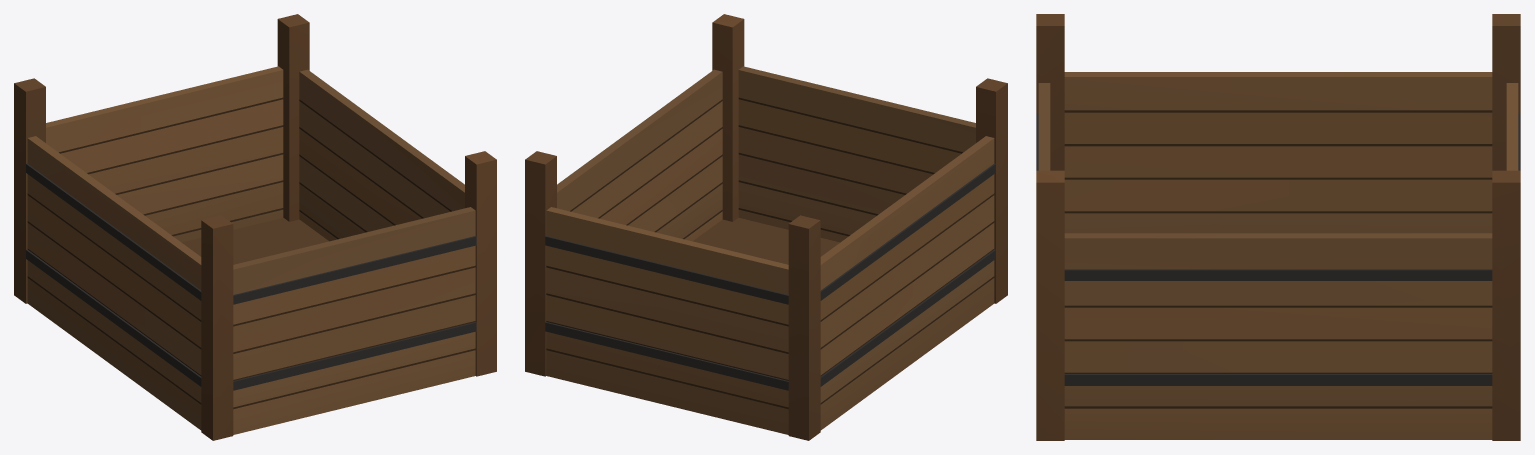
File: crate.bin.oak.glb
3 views of the same model, side by side, from view 1: azimuth 30°, elevation 25°; view 2: azimuth 150°, elevation 25°; view 3: azimuth 270°, elevation 25° (orthographic). The views are drawn at different scales.
Visible parts, largest first — view 1: crate_bin_oak; view 2: crate_bin_oak; view 3: crate_bin_oak.
Boxes of the visible parts, <box> form: crate_bin_oak: <box>14,14,496,440</box>; crate_bin_oak: <box>525,14,1007,440</box>; crate_bin_oak: <box>1036,14,1520,440</box>.
Size of what is drawn, in the model's own units: 1.68 by 1.2 by 2.04.
